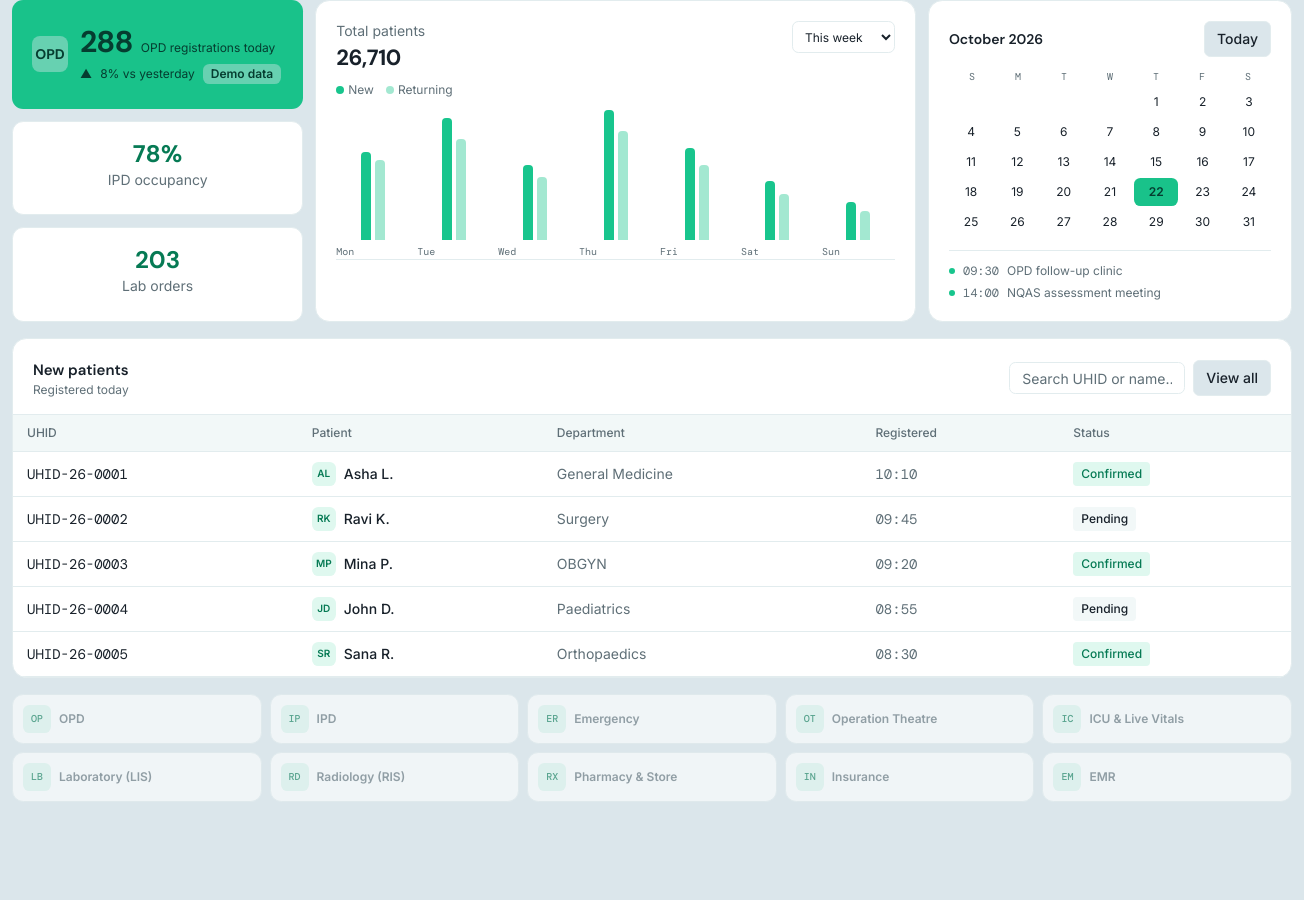
Test: DashboardView › chart range select switches the series length
Select "Last 3 days" in the dropdown named "chart range": (843, 37) left=792, top=21, right=895, bottom=53
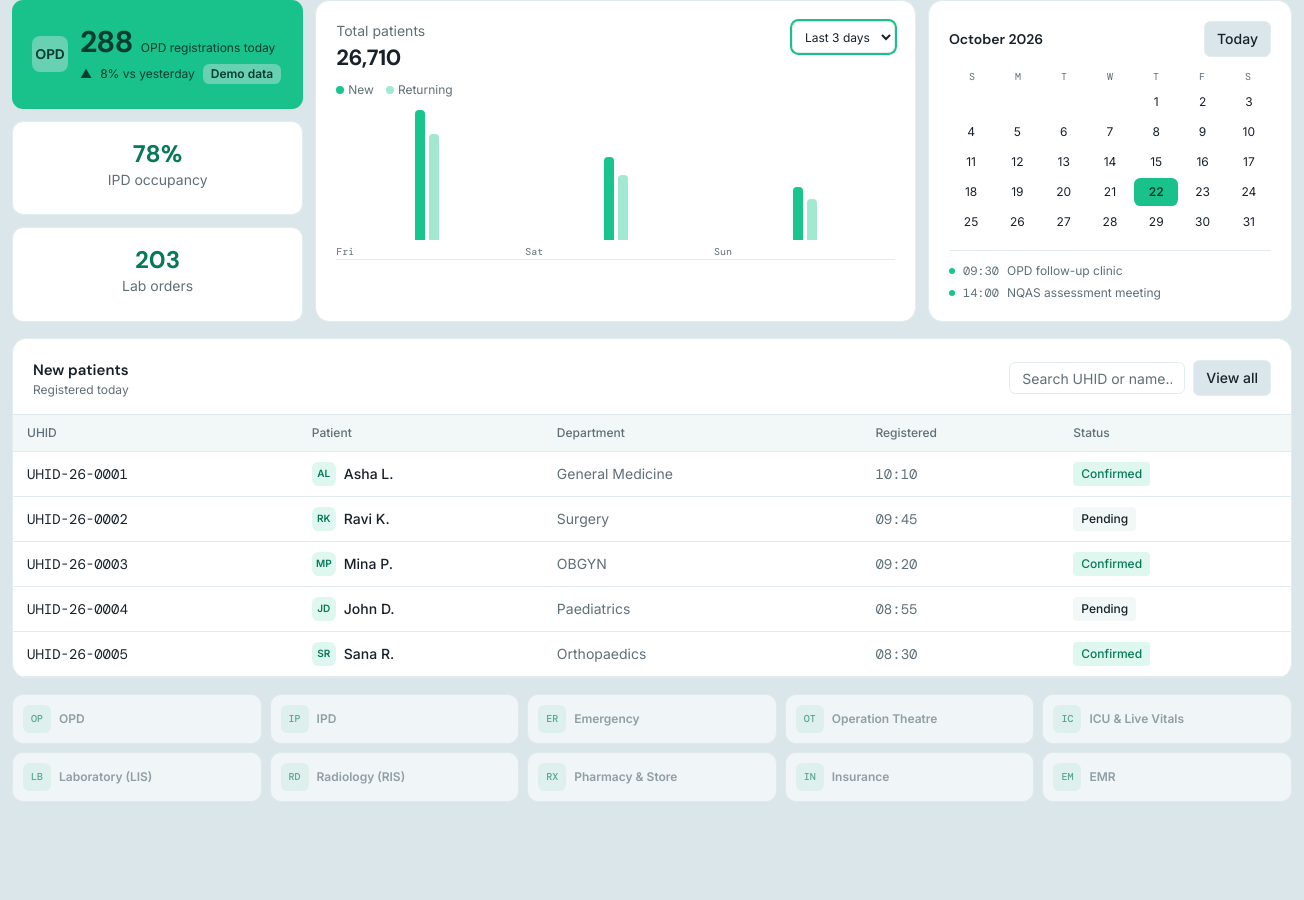
Expected: the number of pictures is 3, left=415, top=110, right=439, bottom=240; left=604, top=157, right=628, bottom=240; left=792, top=187, right=816, bottom=240
